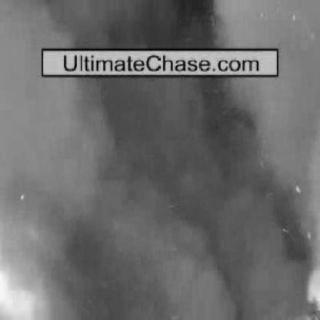Smoke: (61, 151, 224, 314), (11, 81, 153, 259), (226, 80, 317, 307), (222, 2, 316, 46), (10, 5, 38, 73)
